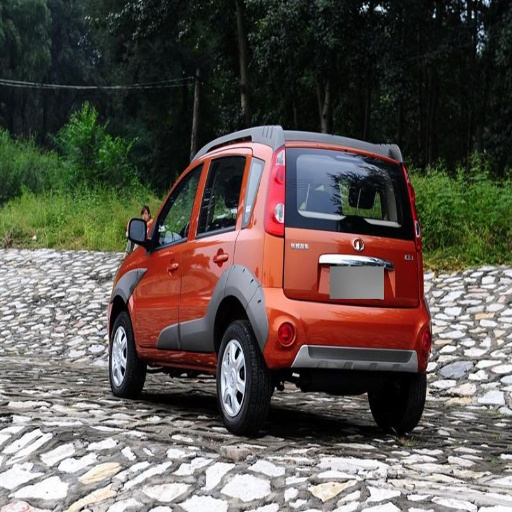back_bumper: (268, 302, 429, 368)
back_glass: (287, 151, 399, 219)
back_left_door: (180, 154, 245, 349)
trunk: (231, 221, 416, 348)
